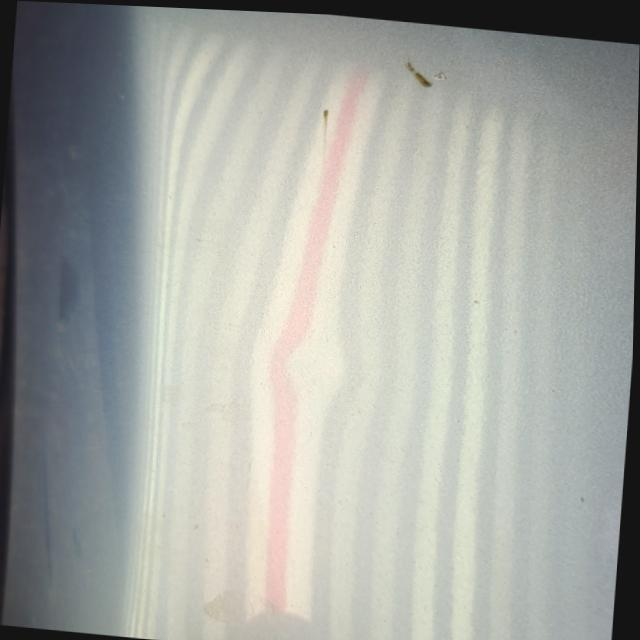PDR-Dent: (248, 329, 379, 412)
Scratch: (398, 56, 437, 88), (319, 103, 328, 164)
